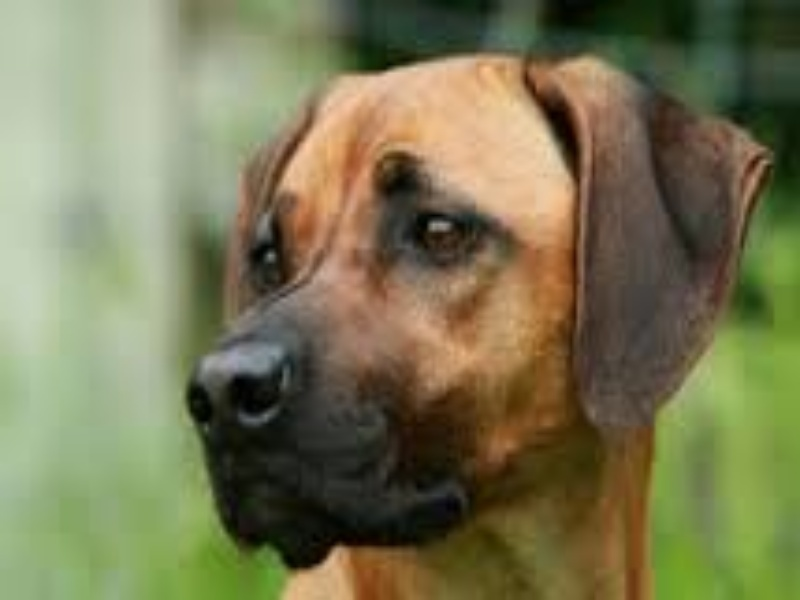dog: (145, 34, 767, 587)
